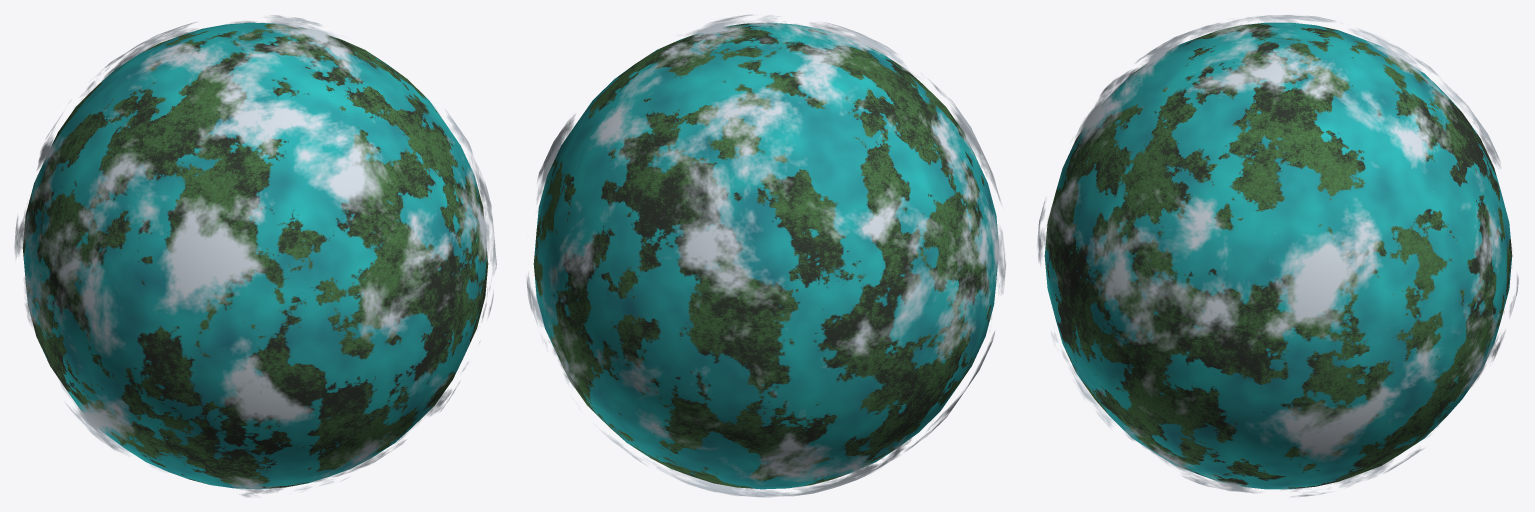
The model's file is Trust.glb.
3 views of the same model, side by side, from view 1: azimuth 30°, elevation 25°; view 2: azimuth 150°, elevation 25°; view 3: azimuth 270°, elevation 25° (orthographic).
Visible parts, largest first — view 1: Trust.001, disgtrust ATMOS.002; view 2: Trust.001, disgtrust ATMOS.002; view 3: Trust.001, disgtrust ATMOS.002.
Boxes of the visible parts, <box> form: Trust.001: <box>22,22,488,489</box>; disgtrust ATMOS.002: <box>14,15,496,497</box>; Trust.001: <box>533,23,998,489</box>; disgtrust ATMOS.002: <box>526,14,1006,497</box>; Trust.001: <box>1044,22,1512,489</box>; disgtrust ATMOS.002: <box>1037,15,1518,497</box>.
Bounding box in the file's own units: 2.06 × 2.07 × 2.07.
2 materials, 2 textured.
